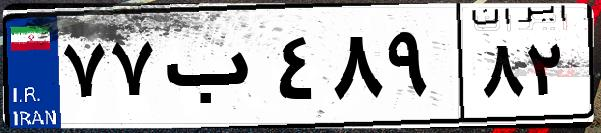2: (525, 38, 570, 115)
4: (270, 28, 330, 110)
7: (57, 26, 110, 100), (110, 28, 158, 98)
8: (330, 28, 385, 110), (475, 38, 525, 113)
9: (385, 28, 445, 110)
ب: (158, 20, 270, 120)
